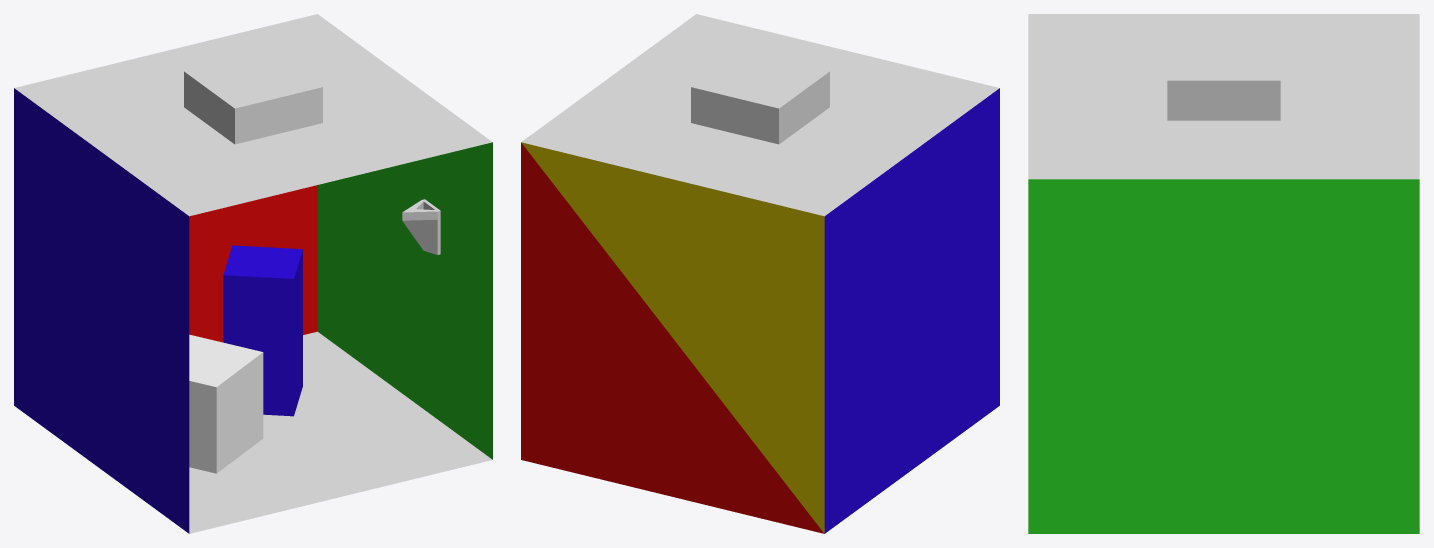
The model's file is Room3.glb.
3 views of the same model, side by side, from view 1: azimuth 30°, elevation 25°; view 2: azimuth 150°, elevation 25°; view 3: azimuth 270°, elevation 25° (orthographic). The views are drawn at different scales.
Parts seen in each view (by area): view 1: Cube.001, Cube.003, Cube.002, Plane; view 2: Cube.001; view 3: Cube.001.
Boxes of the visible parts, left/top/right/bottom form: Cube.001: left=14, top=14, right=492, bottom=533; Cube.003: left=223, top=245, right=302, bottom=416; Cube.002: left=189, top=334, right=263, bottom=473; Plane: left=402, top=199, right=440, bottom=254; Cube.001: left=521, top=14, right=999, bottom=533; Cube.001: left=1028, top=14, right=1419, bottom=533.
Bounding box in the file's own units: 16 × 17.81 × 16.
